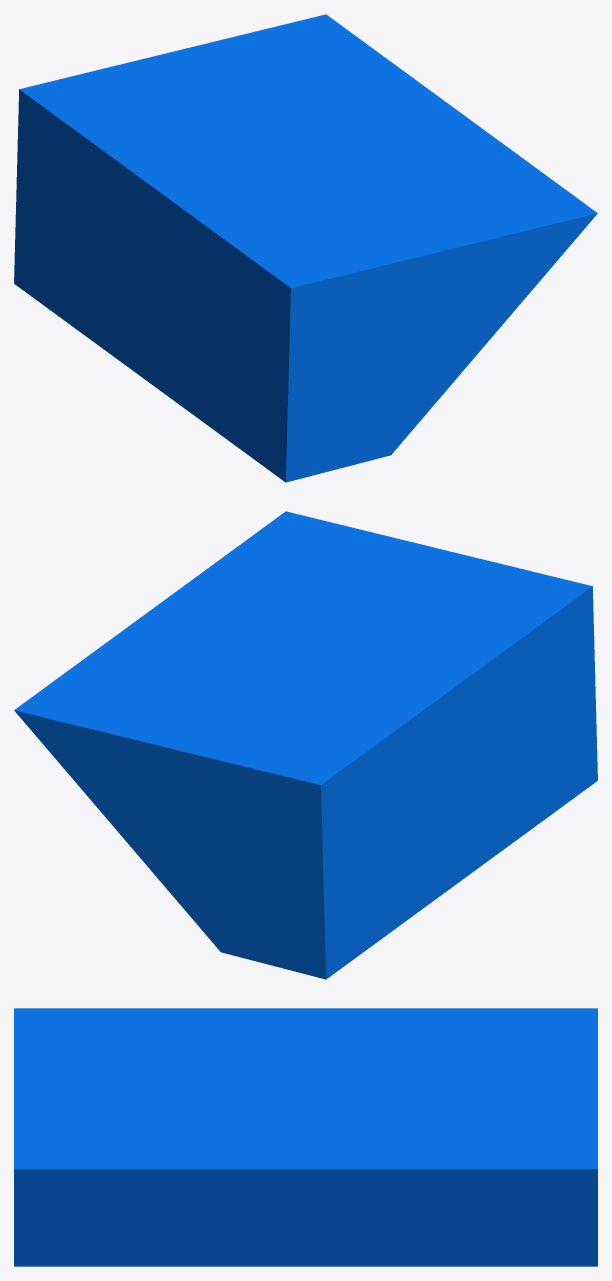
Rendered from Pusher.fbx.
3 renders of one model, top to bottom at view 1: azimuth 30°, elevation 25°; view 2: azimuth 150°, elevation 25°; view 3: azimuth 270°, elevation 25°, orthographic. The views are drawn at different scales.
Visible parts, largest first — view 1: Pusher; view 2: Pusher; view 3: Pusher.
Boxes of the visible parts, box(x1,y1,x2,y2) form: Pusher: box(14, 14, 597, 482); Pusher: box(14, 511, 597, 979); Pusher: box(14, 1008, 597, 1266).
Size of the model in its own units: 68.11 by 40.28 by 103.
